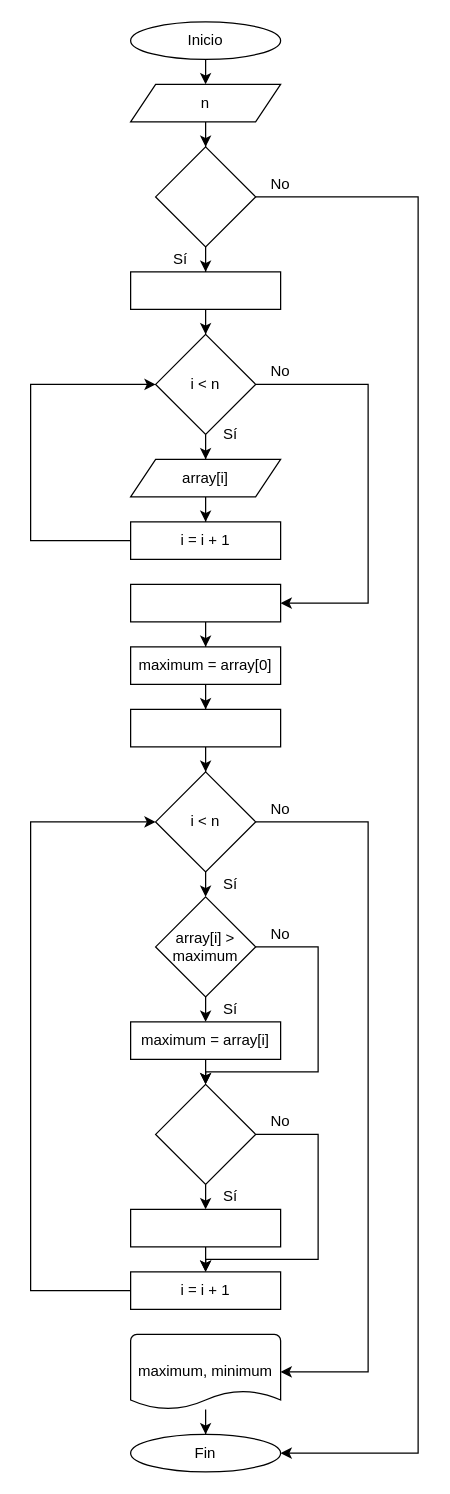
Image size: 450x1494. Some labels were removed from this diagram. Each missing label, with the centre of its shape:
"array[i] < minimum" belongs at point 205,1133.
"i = 0" belongs at point 205,290.
"i = 1" belongs at point 205,727.
"minimum = array[0]" belongs at point 205,602.
"minimum = array[i]" belongs at point 205,1227.
"n > 0" belongs at point 205,196.
